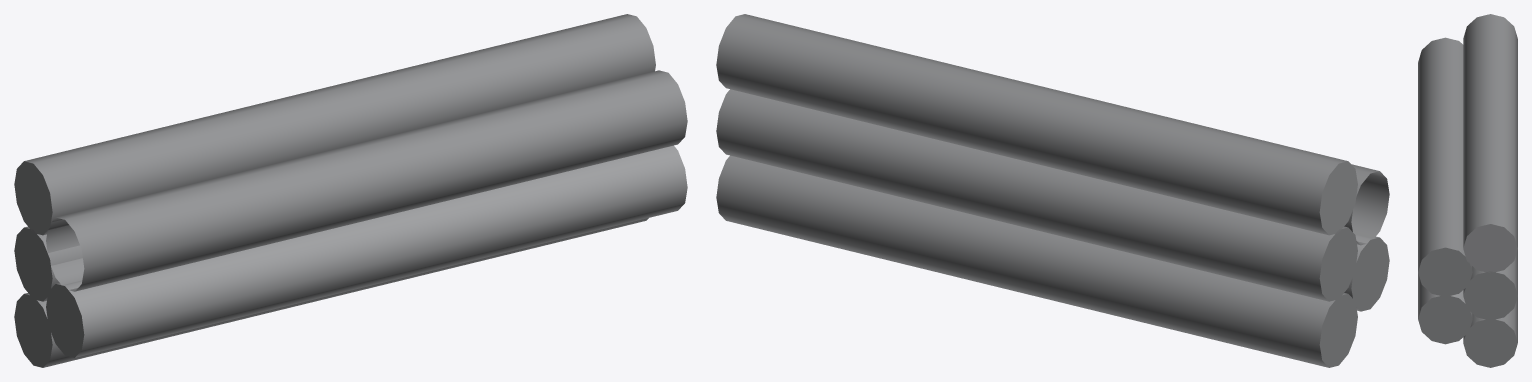
3 renders of one model, left to right at view 1: azimuth 30°, elevation 25°; view 2: azimuth 150°, elevation 25°; view 3: azimuth 270°, elevation 25°, orthographic. The views are drawn at different scales.
Bounding box in the file's own units: 1 × 0.32 × 0.2009.
